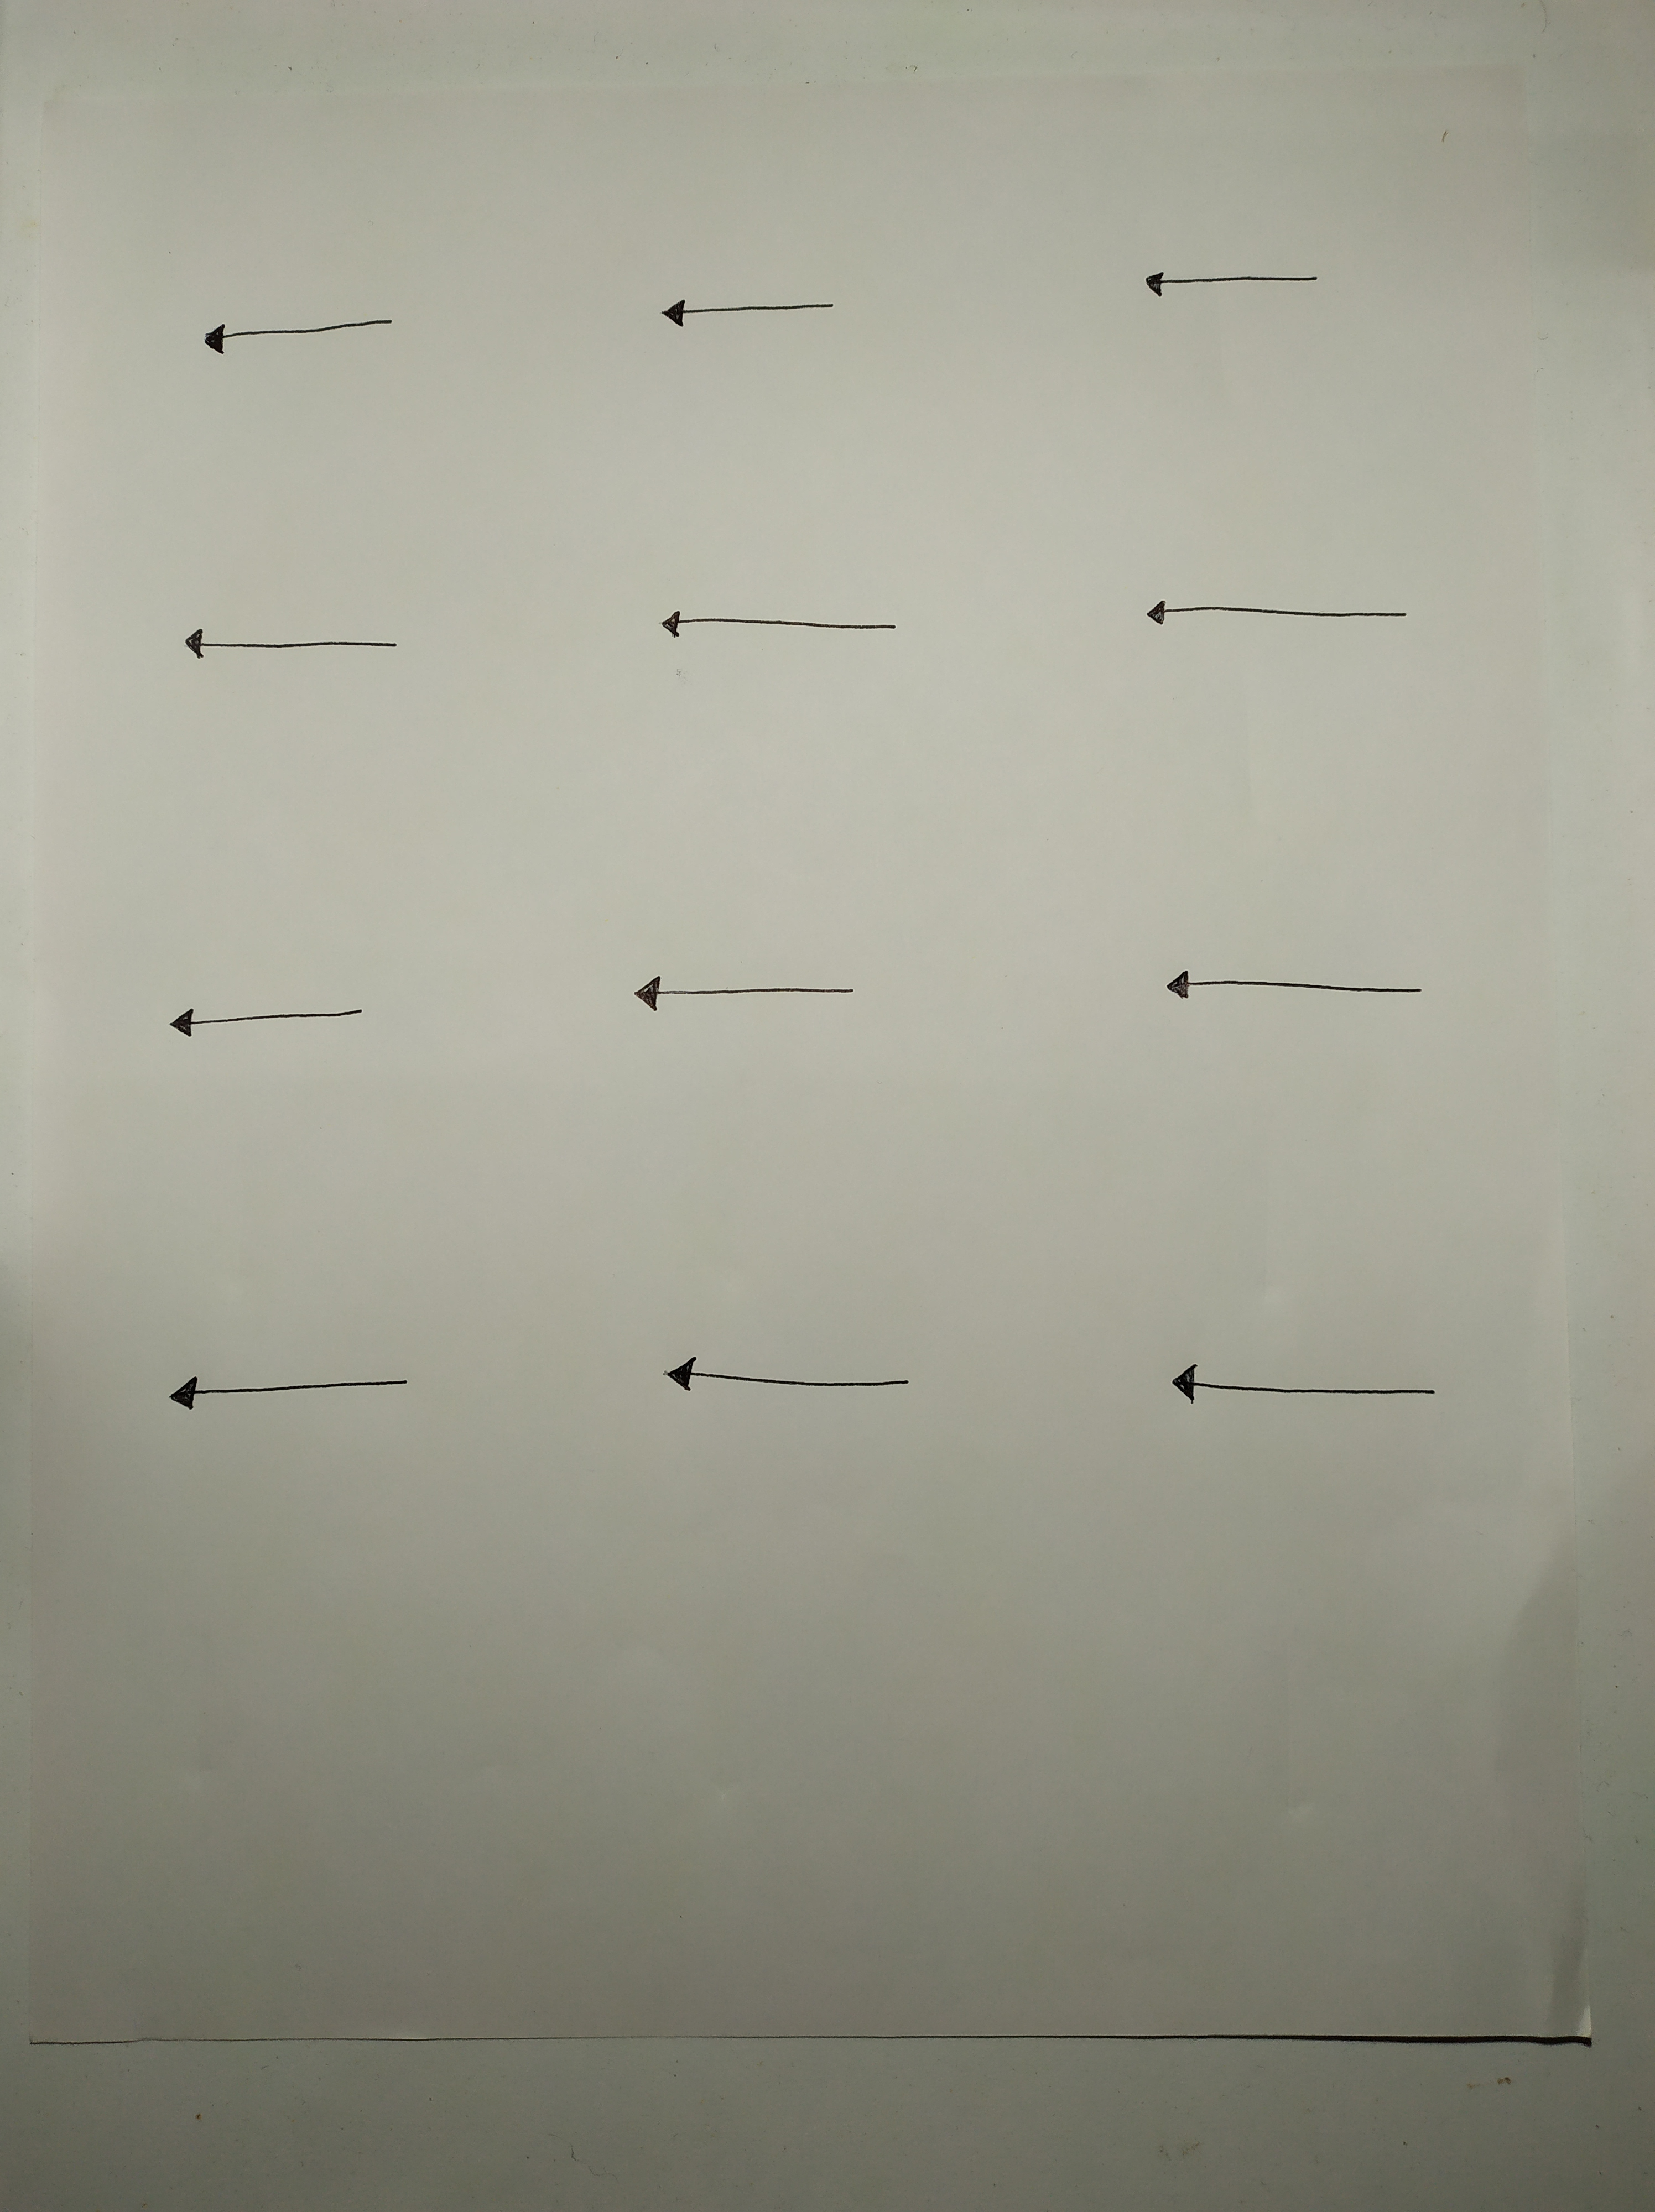arrow_line_left: (1139, 1348, 1471, 1444), (621, 1334, 958, 1423), (1125, 959, 1453, 1037), (143, 982, 395, 1079), (1102, 243, 1392, 327), (1123, 575, 1431, 653), (602, 950, 901, 1030), (130, 1348, 445, 1420), (629, 593, 934, 666), (176, 287, 426, 375), (144, 605, 431, 681), (638, 269, 852, 348)
